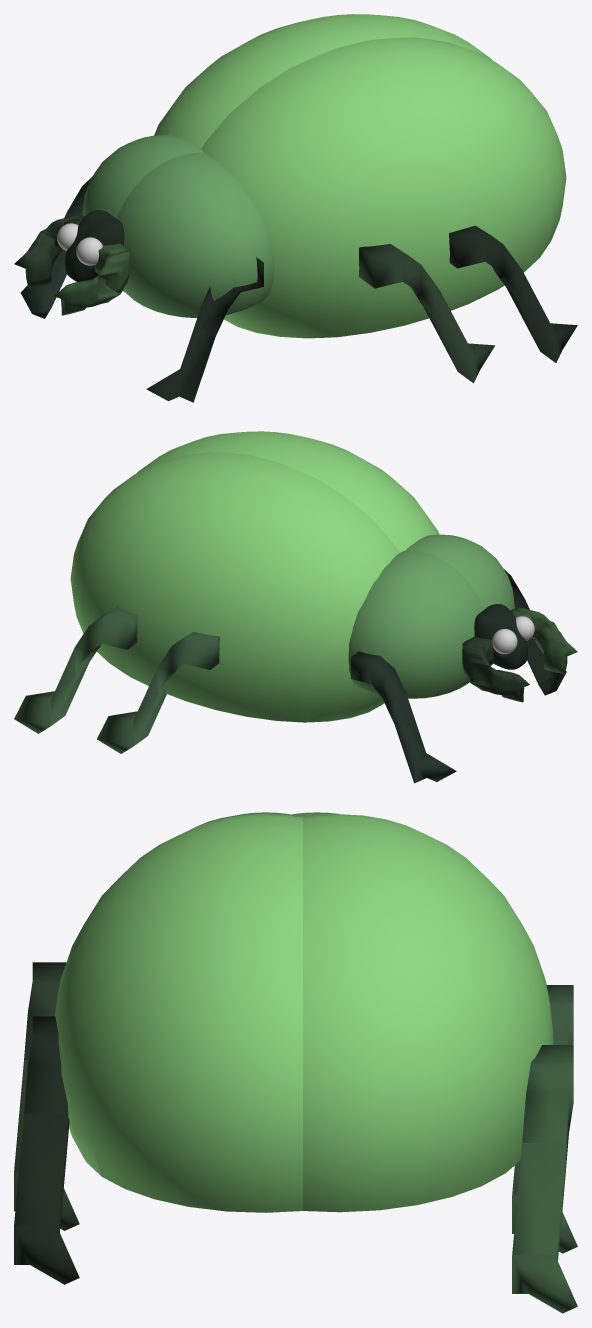
Rendered from scarabee.dae.
The picture shows the model from 3 angles, top to bottom: view 1: azimuth 30°, elevation 25°; view 2: azimuth 150°, elevation 25°; view 3: azimuth 270°, elevation 25°; orthographic projection. The views are drawn at different scales.
Visible parts, largest first — view 1: Cube_008; view 2: Cube_008; view 3: Cube_008.
Part boxes in pixels (left/top/right/bottom): Cube_008: left=14, top=14, right=577, bottom=402; Cube_008: left=14, top=431, right=577, bottom=783; Cube_008: left=14, top=812, right=577, bottom=1313.
Bounding box in the file's own units: 3.66 × 2.64 × 1.9.
